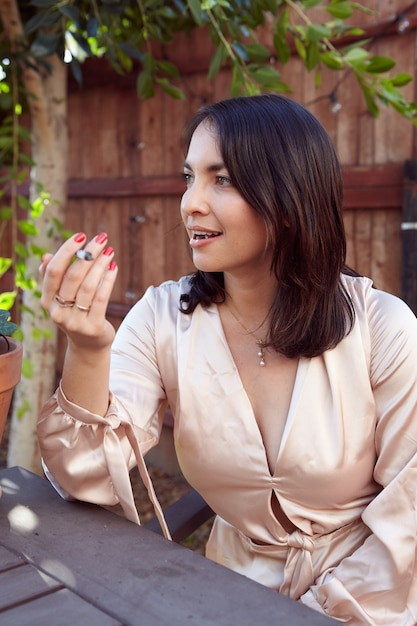cigarette: (73, 244, 96, 263)
